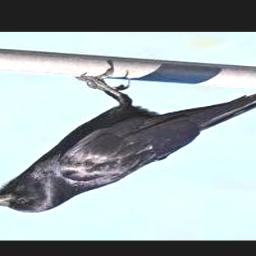Crow: (0, 69, 256, 213)
